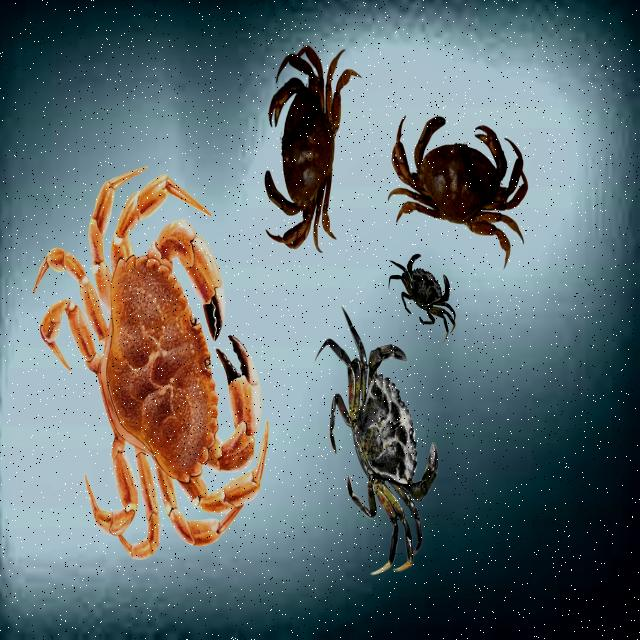European_Green_Crab: (293, 276, 464, 593), (378, 234, 468, 348)
